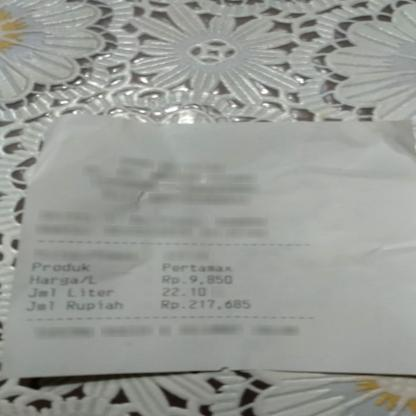receipts: (19, 114, 403, 363)
